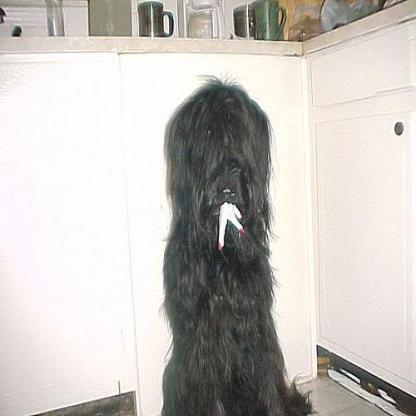briard: (158, 70, 319, 414)
